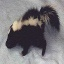skunk: (5, 6, 59, 56)
